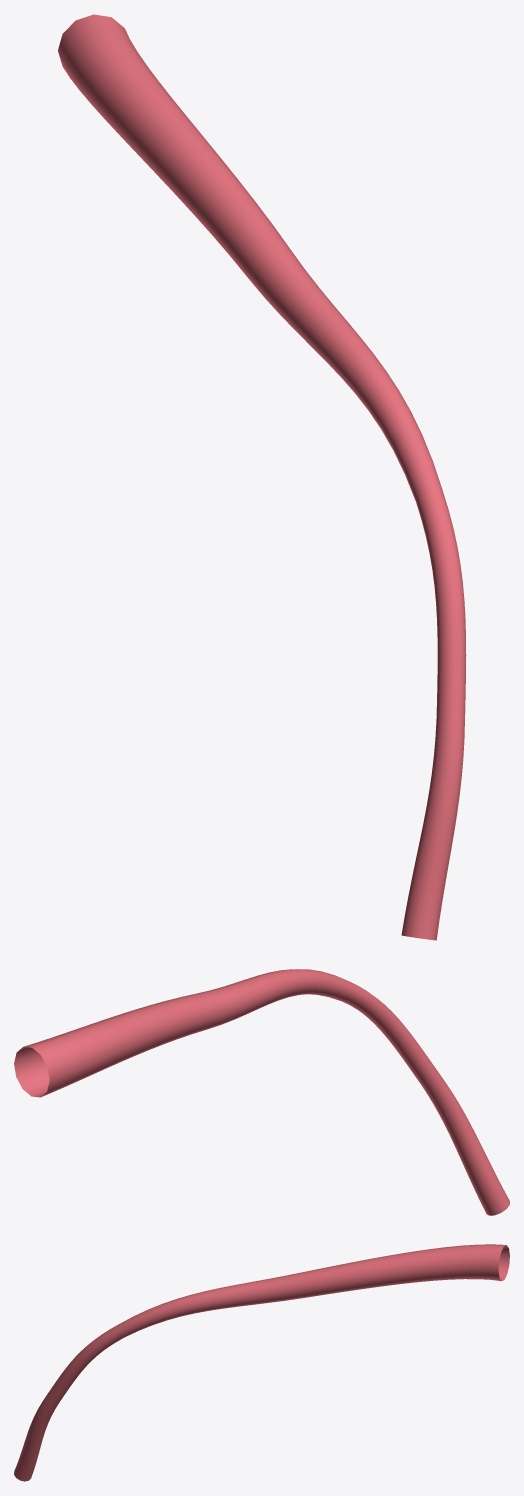
3 views of the same model, one above another, from view 1: azimuth 30°, elevation 25°; view 2: azimuth 150°, elevation 25°; view 3: azimuth 270°, elevation 25° (orthographic). The views are drawn at different scales.
Visible parts, largest first — view 1: ZA_4b7f2a07c92f6b85; view 2: ZA_4b7f2a07c92f6b85; view 3: ZA_4b7f2a07c92f6b85.
Boxes of the visible parts, x1,y1,x2,y2 form: ZA_4b7f2a07c92f6b85: [58, 14, 466, 940]; ZA_4b7f2a07c92f6b85: [14, 969, 509, 1215]; ZA_4b7f2a07c92f6b85: [14, 1244, 509, 1481].
Bounding box in the file's own units: 0.00634 × 0.0163 × 0.0271.
